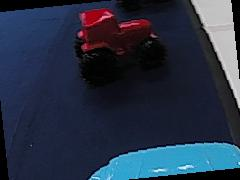Tracktor: (71, 4, 165, 79)
